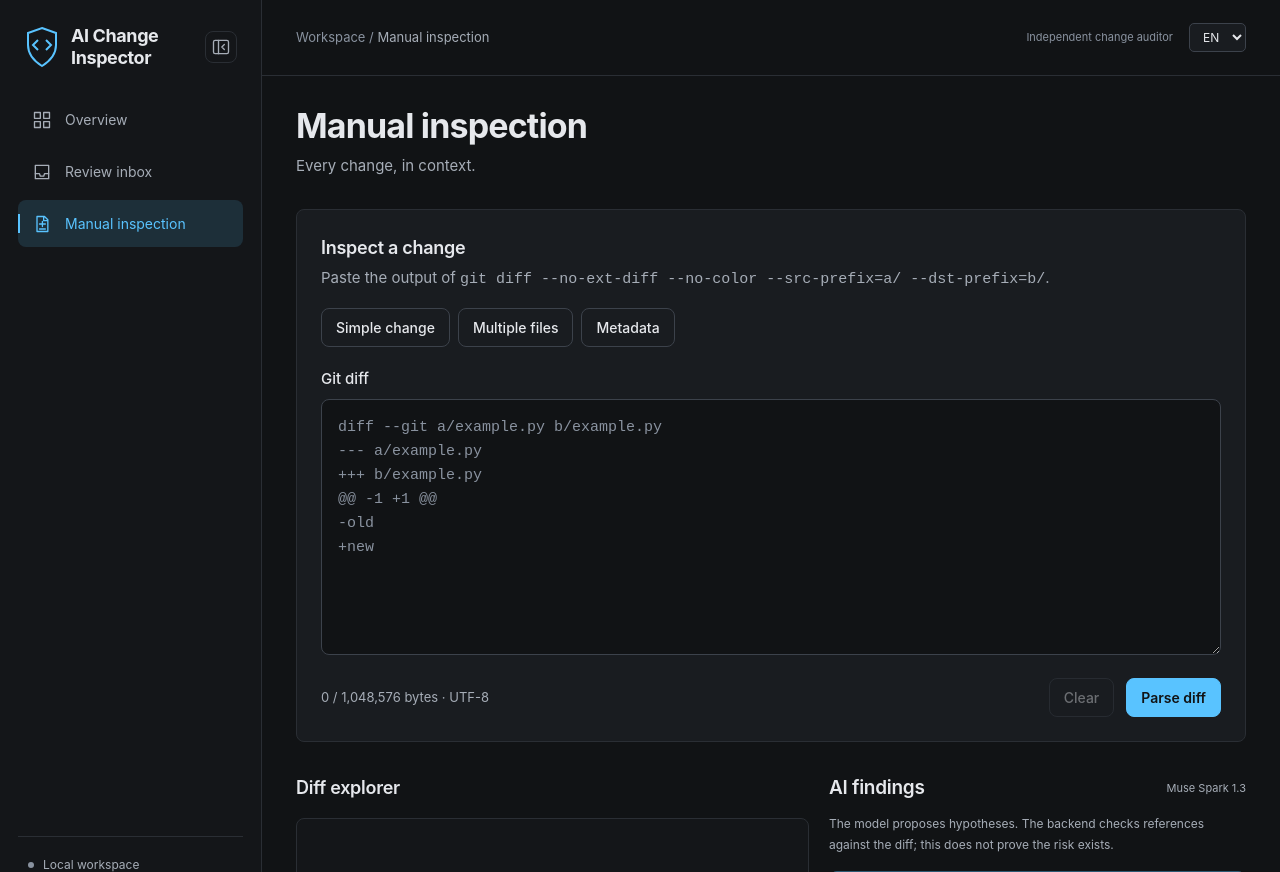
Test: diff workflow › explains connection failures
What coordinates should you click on to do the following:
click the button "Simple change"
I would click on:
 (385, 328)
Its box is 321,308 -> 450,347.
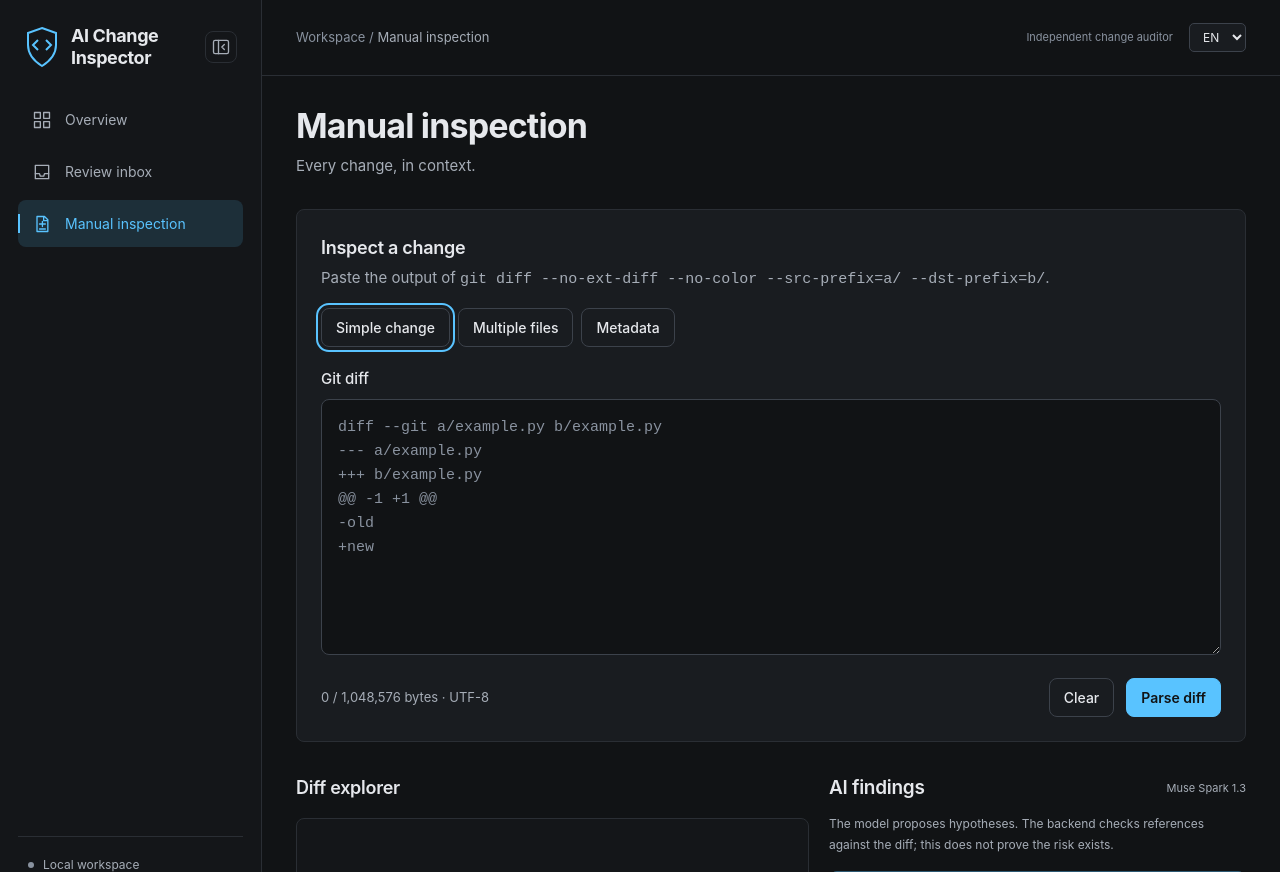
What coordinates should you click on to do the following:
click the button "Parse diff"
I would click on:
 (1174, 697)
Its box is 1126,678 -> 1221,717.
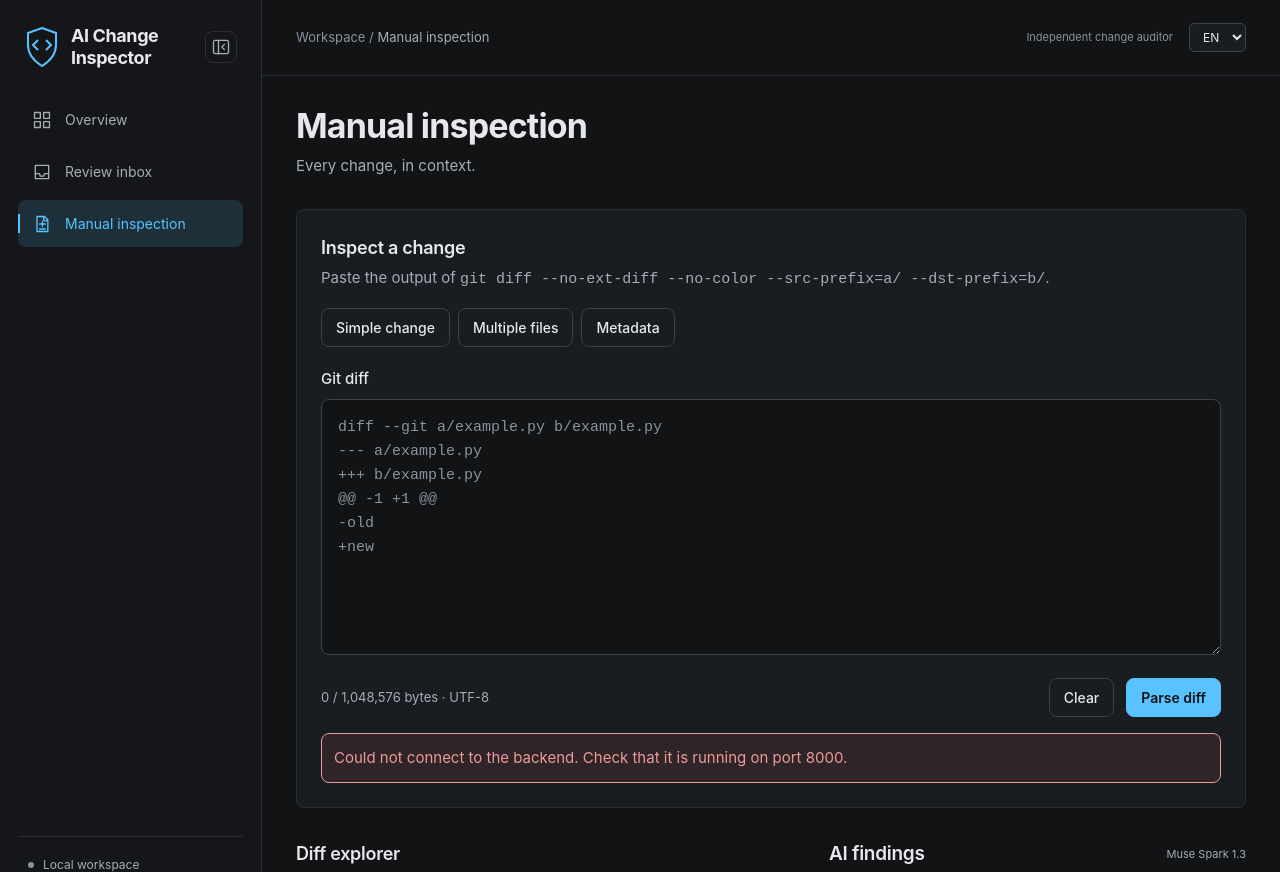
Now the message shows "Could not connect to the backend", box 334,748 -> 847,767
